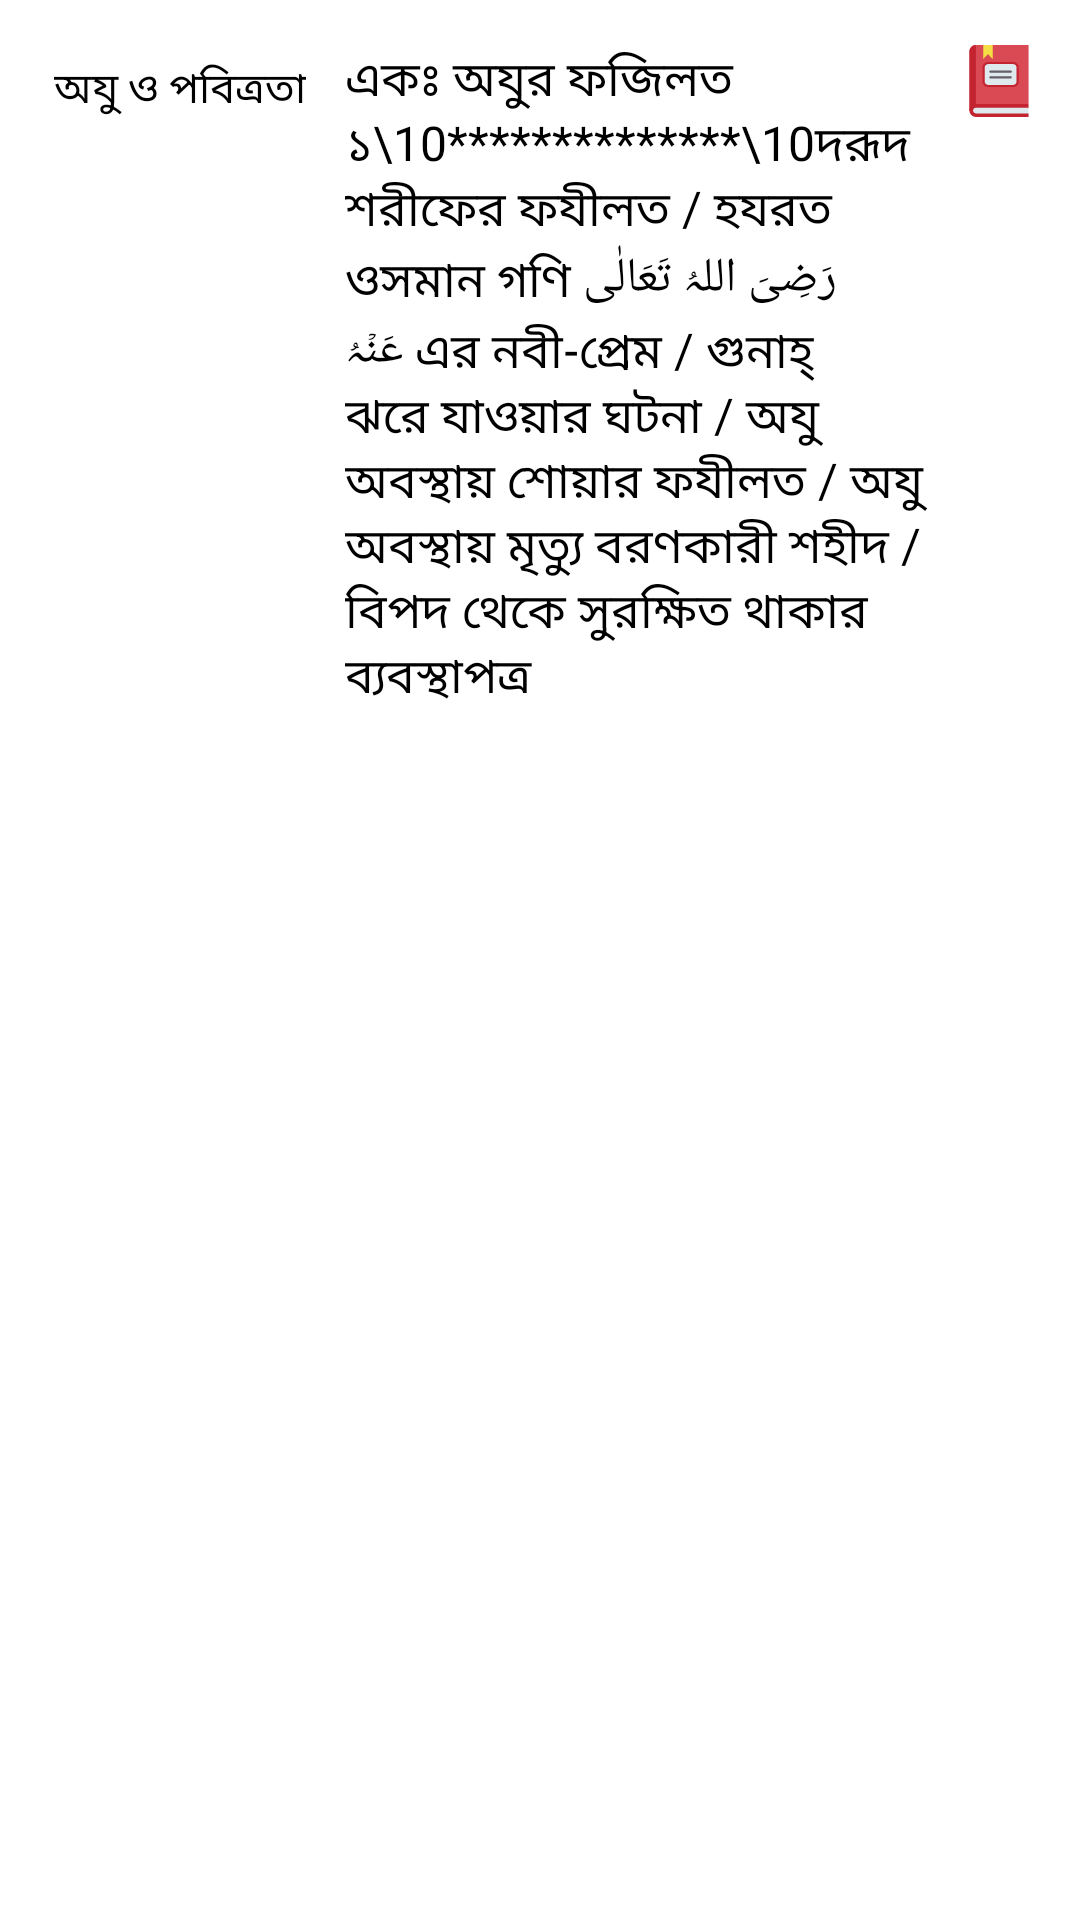

Icons on this 1080w x 1920h Android screen, each with its box as (x1, y1, x2, y2):
book: (969, 45, 1029, 117)
